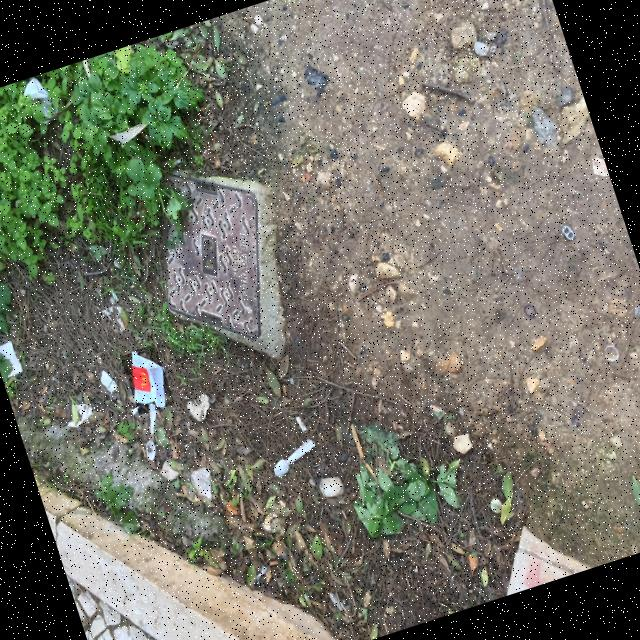Cigarette: (297, 416, 308, 432)
Other plastic: (102, 372, 119, 393), (265, 513, 278, 533)
Paper bag: (133, 351, 167, 408), (24, 79, 58, 117)
Plastic film: (191, 469, 213, 500)
Plastic utensils: (276, 439, 316, 476), (147, 403, 158, 460)
Pop tab: (563, 226, 576, 241)
